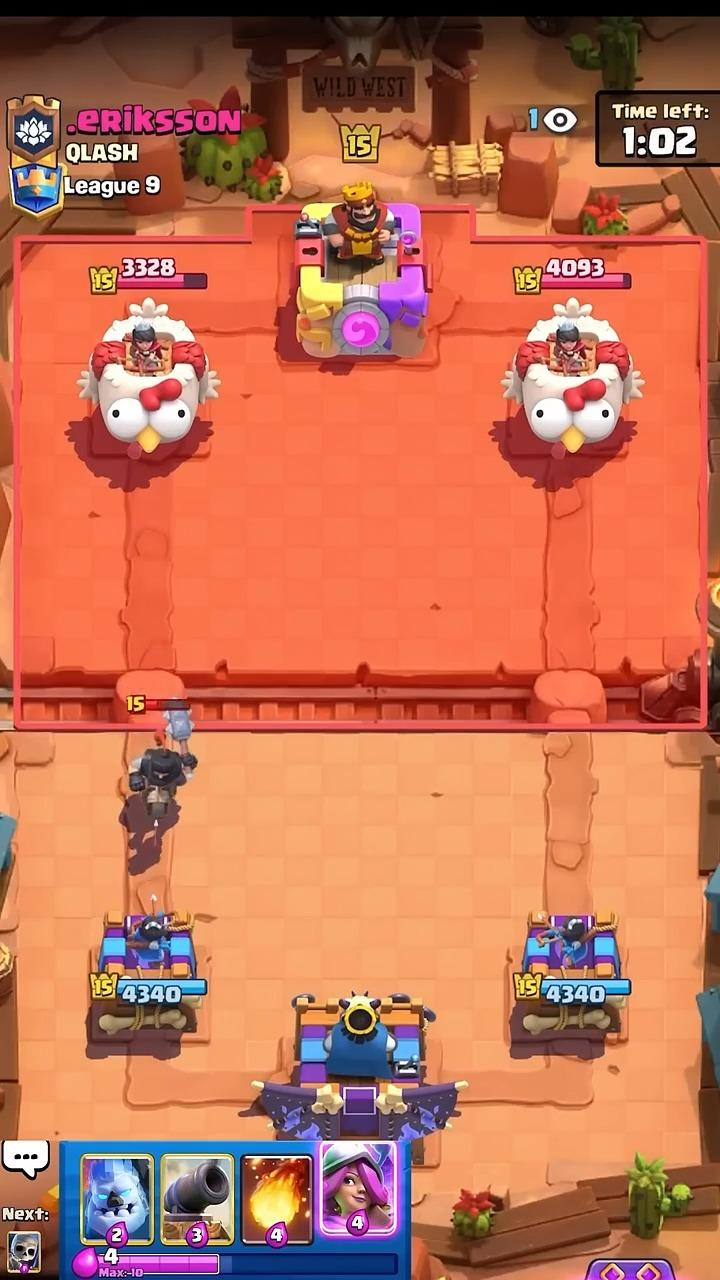dark prince: (130, 709, 196, 826)
